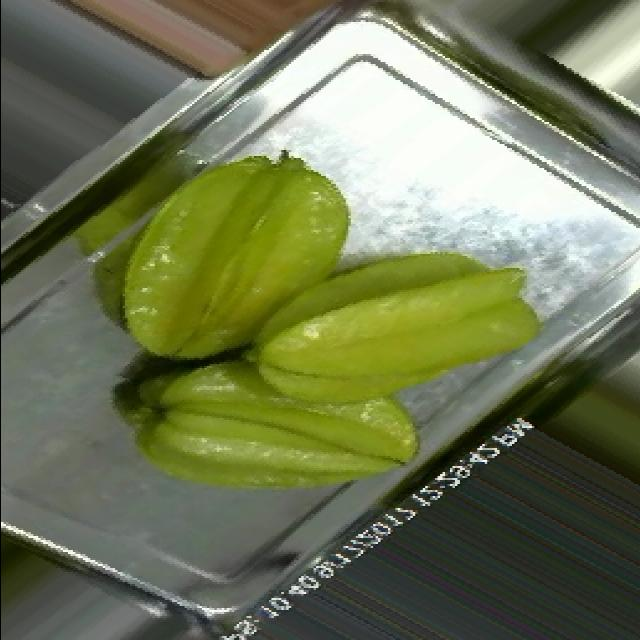fruit: (194, 182, 566, 456), (70, 104, 394, 406), (12, 0, 360, 108), (548, 274, 640, 540)
